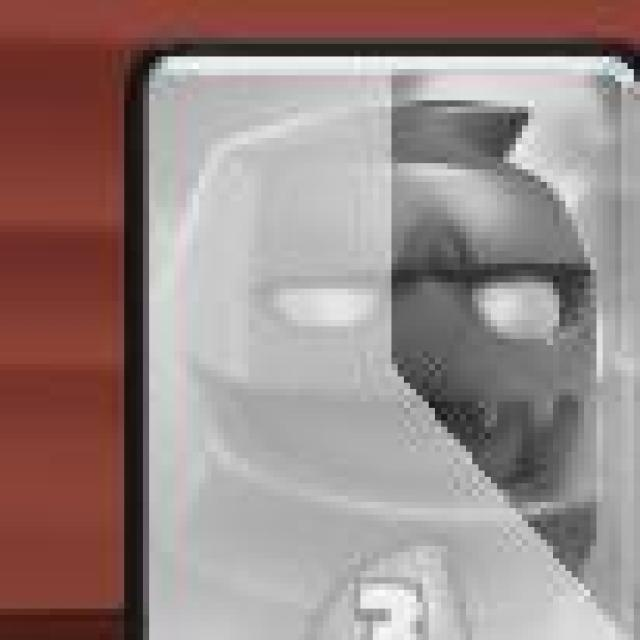Elixir_Golem: (127, 39, 639, 640)
